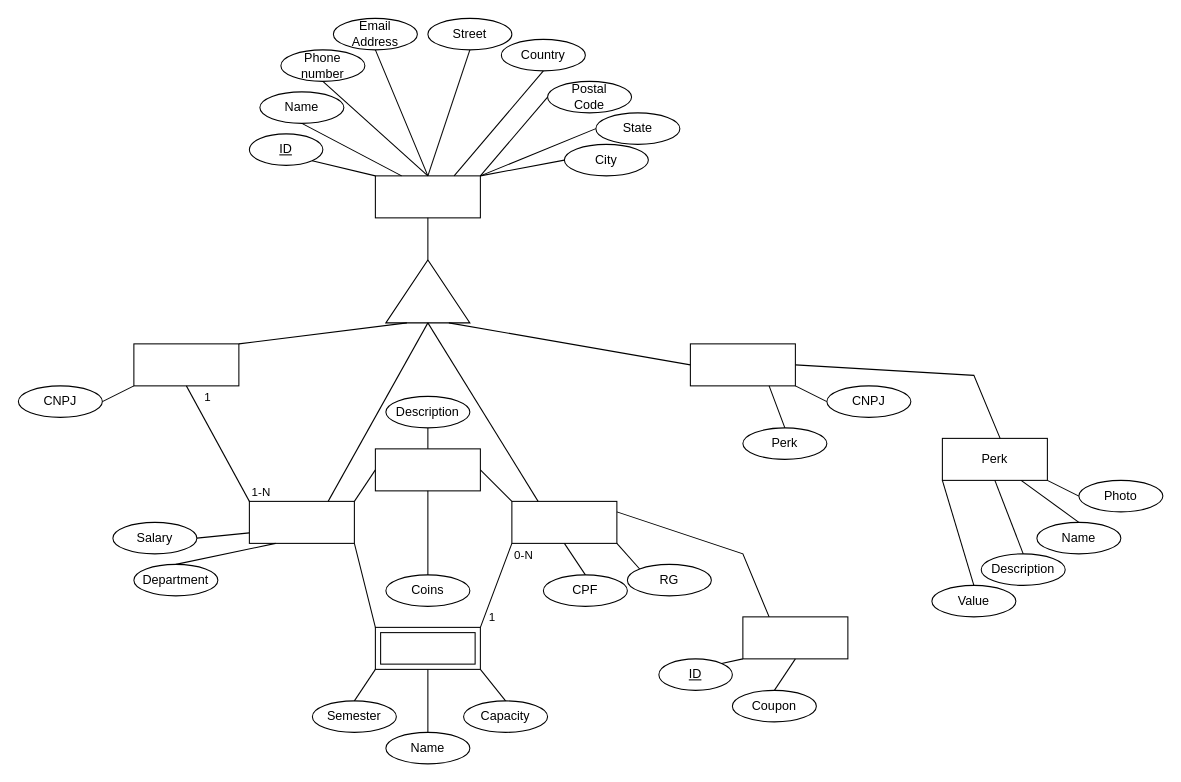
The diagram is 1181 pixels wide and 782 high, and some of its shapes have lost their labels. Here are the shapes that lost their labels. From the top down, the box of each, then its label:
(374, 175, 480, 218): Users
(133, 343, 239, 386): Educational Insitution
(689, 343, 795, 386): Partner Company
(374, 448, 480, 491): Wallet
(248, 500, 354, 543): Teacher
(511, 500, 617, 543): Student
(374, 626, 480, 669): Classroom
(742, 616, 848, 659): Notification
